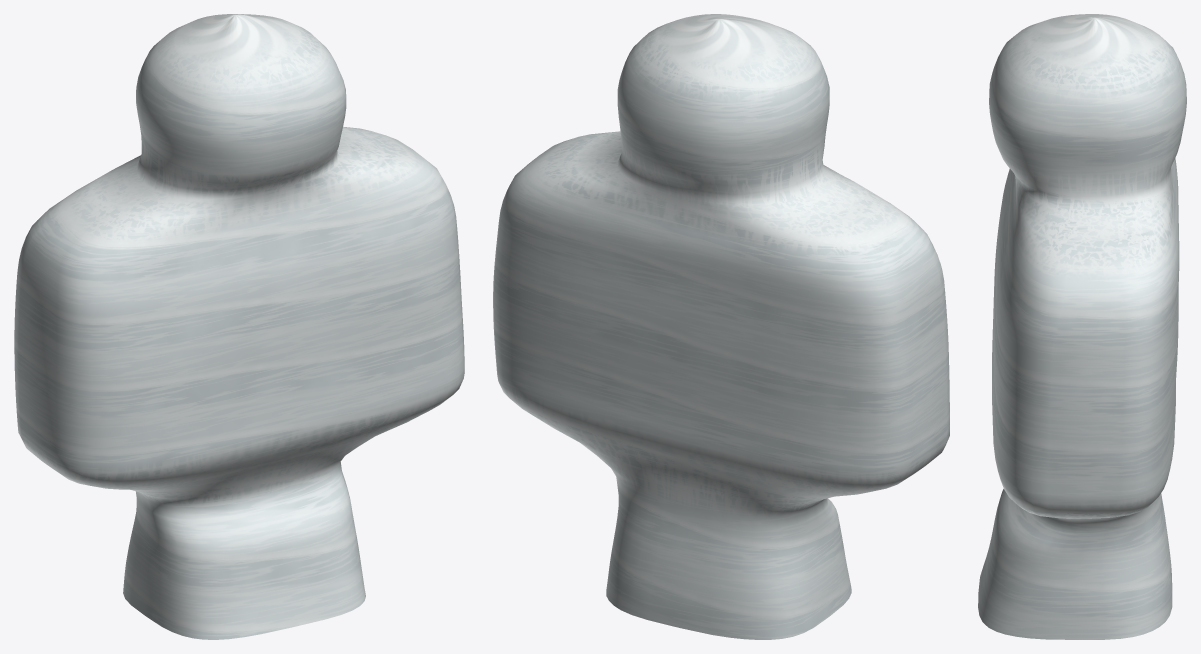
File: KeptWrap.fbx
3 renders of one model, left to right at view 1: azimuth 30°, elevation 25°; view 2: azimuth 150°, elevation 25°; view 3: azimuth 270°, elevation 25°, orthographic.
Visible parts, largest first — view 1: KeptWrap; view 2: KeptWrap; view 3: KeptWrap.
Boxes of the visible parts, left/top/right/bottom form: KeptWrap: left=14, top=14, right=464, bottom=639; KeptWrap: left=493, top=14, right=949, bottom=639; KeptWrap: left=978, top=14, right=1186, bottom=639.
Size of the model in its own units: 4.13 by 5.52 by 1.82.
1 material, 1 textured.
